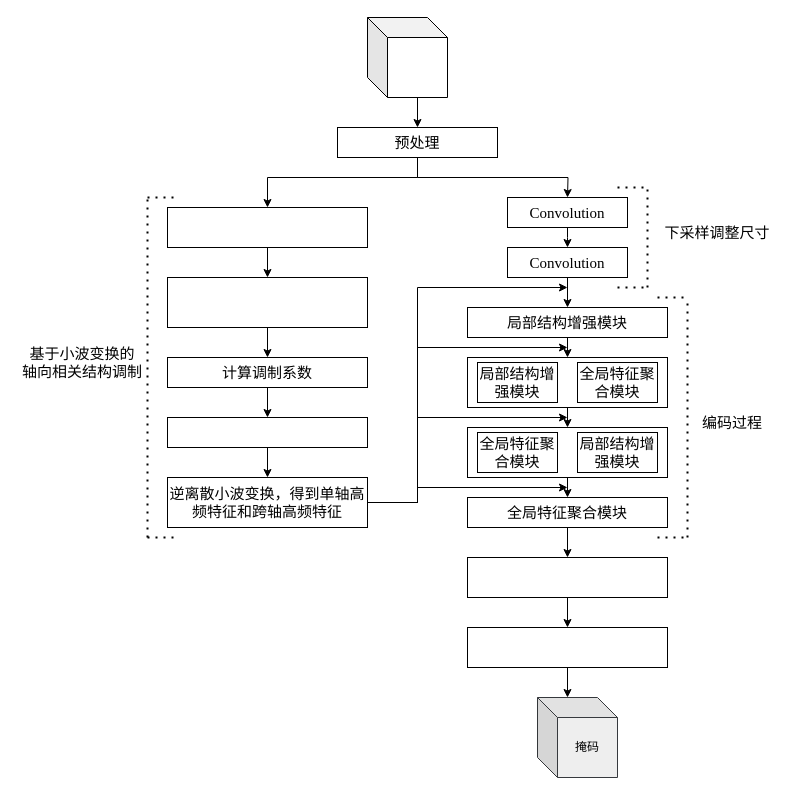
Some shapes in this 794 by 795 pixel diagram are drawn without their labels. The centre of each missing label's shape, as x and y in pixels:
"MRI" belongs at point (407, 57).
"对高频子带进行调制" belongs at point (267, 432).
"将得到的部分子带分为单轴高频子带和跨轴高频子带两类" belongs at point (267, 302).
"离散小波变换， 得到高频子带" belongs at point (267, 227).
"融合不同层级的特征 并进行上采样" belongs at point (567, 647).
"通过插值的方式对编码器每个层级的输出调整至统一尺寸" belongs at point (567, 577).
